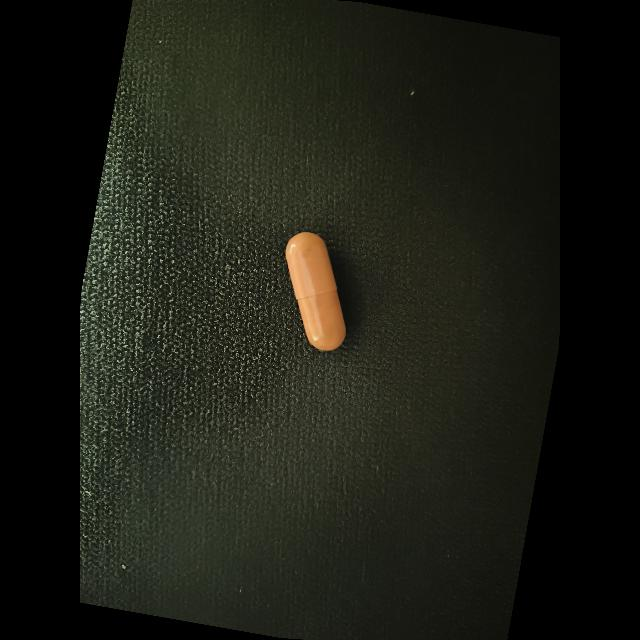Intact Capsule: (285, 232, 346, 350)
